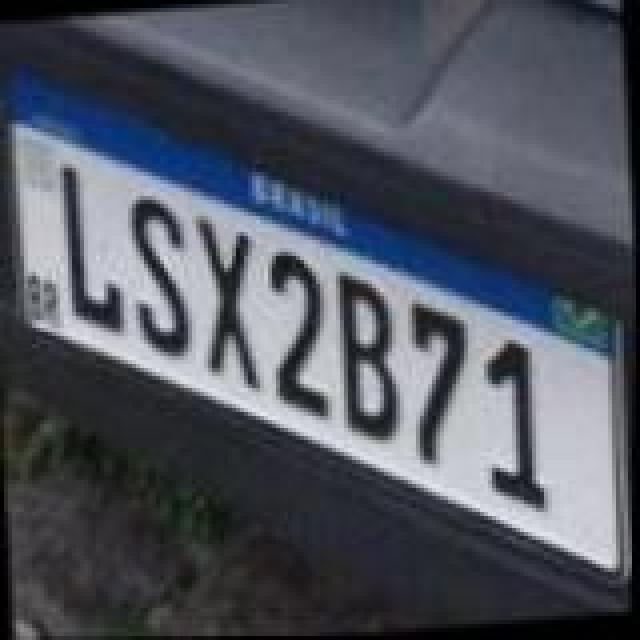1: (476, 334, 552, 522)
2: (262, 242, 338, 422)
7: (406, 294, 478, 470)
B: (332, 266, 408, 450)
L: (54, 154, 130, 338)
S: (122, 188, 194, 364)
X: (190, 212, 266, 400)
